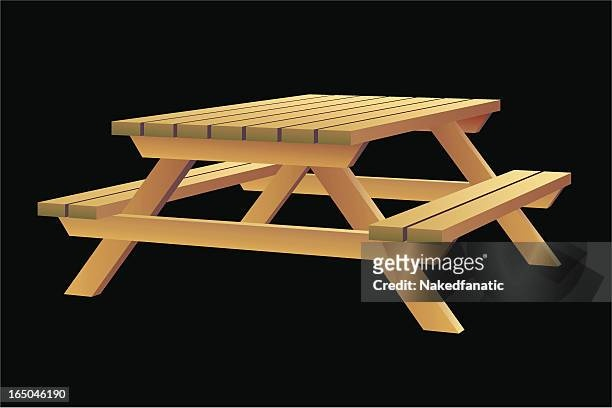obstacle: (38, 95, 570, 296)
